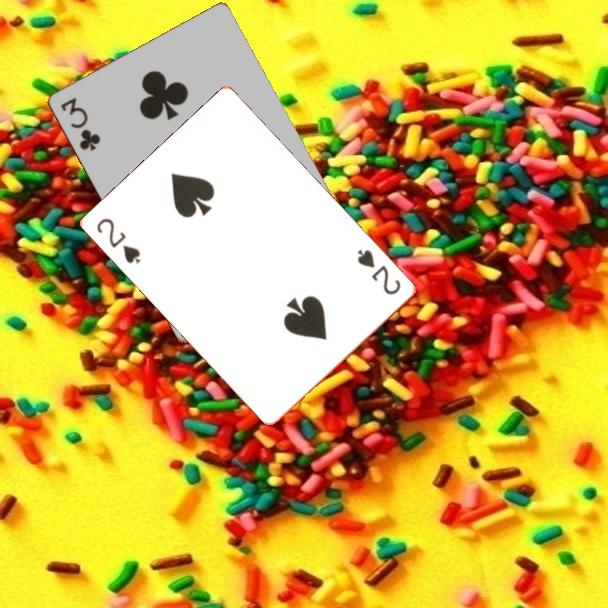c03: (56, 93, 103, 154)
s02: (354, 246, 404, 298), (94, 215, 144, 267)
